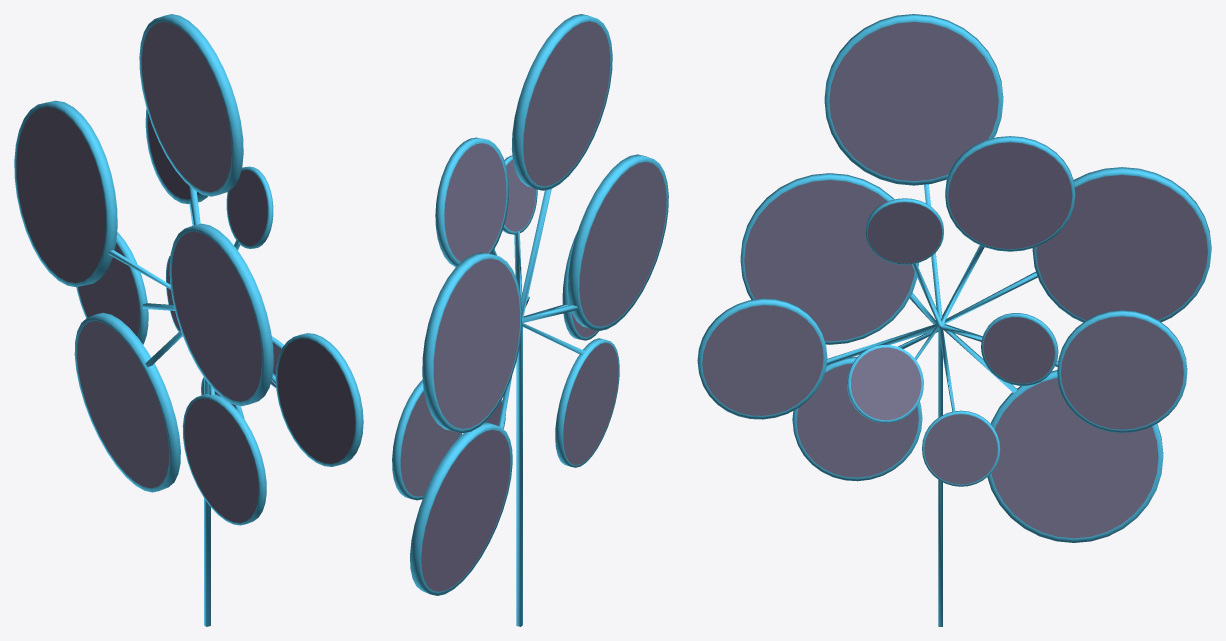
The model's file is flower.fbx.
3 renders of one model, left to right at view 1: azimuth 30°, elevation 25°; view 2: azimuth 150°, elevation 25°; view 3: azimuth 270°, elevation 25°, orthographic. The views are drawn at different scales.
Visible parts, largest first — view 1: Kaimen2; view 2: Kaimen2; view 3: Kaimen2.
Part boxes in pixels (<box>): Kaimen2: <box>14,14,363,626</box>; Kaimen2: <box>392,14,668,626</box>; Kaimen2: <box>697,14,1211,626</box>.
Bounding box in the file's own units: 0.7385 × 3.85 × 3.02.
